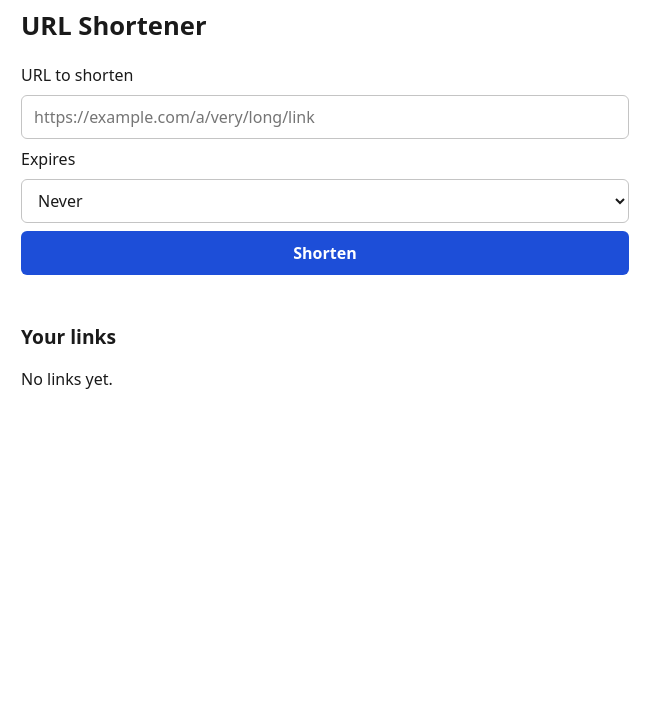
Test: App › saves the list and restores it, ignoring broken data
Later steps or results of the test are not shown.
Type "https://example.com/long" into the field labelled "URL to shorten".
click(325, 117); type("https://example.com/long")  # box 21,95 -> 629,139
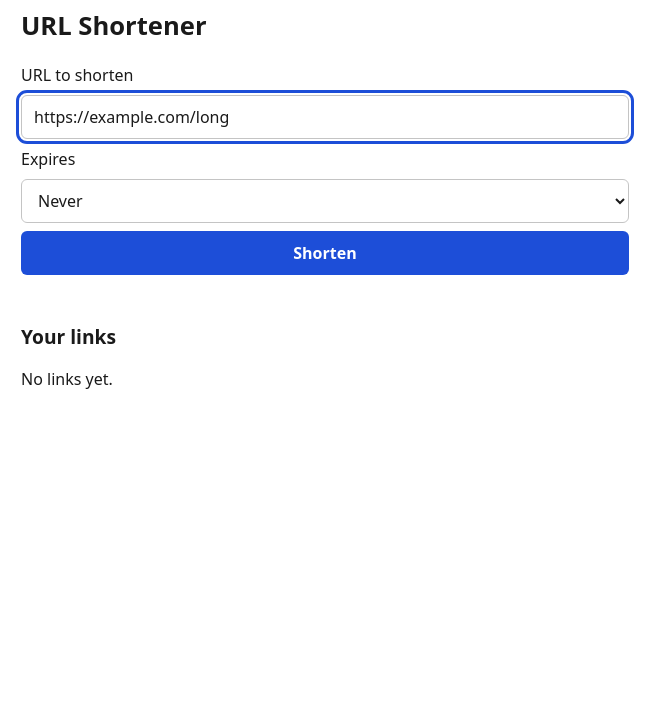
Click the button "Shorten".
click(325, 253)  # box 21,231 -> 629,275
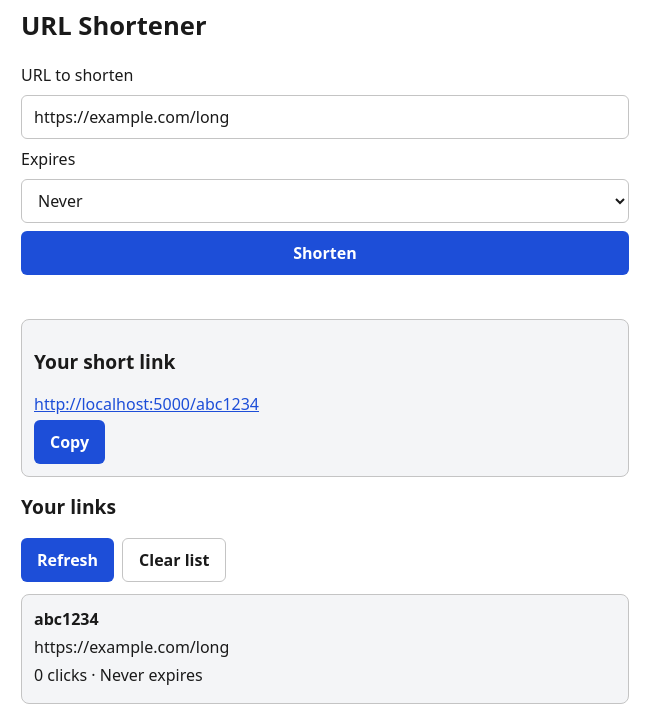
Result: the link "http://localhost:5000/abc1234" is shown at 34,393 -> 259,415
